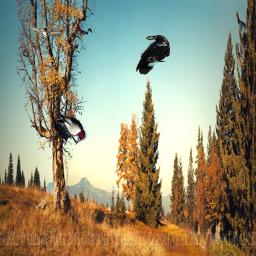Crow: (136, 35, 170, 75)
Swallow: (25, 23, 65, 40)
Woodpecker: (55, 113, 87, 145)
